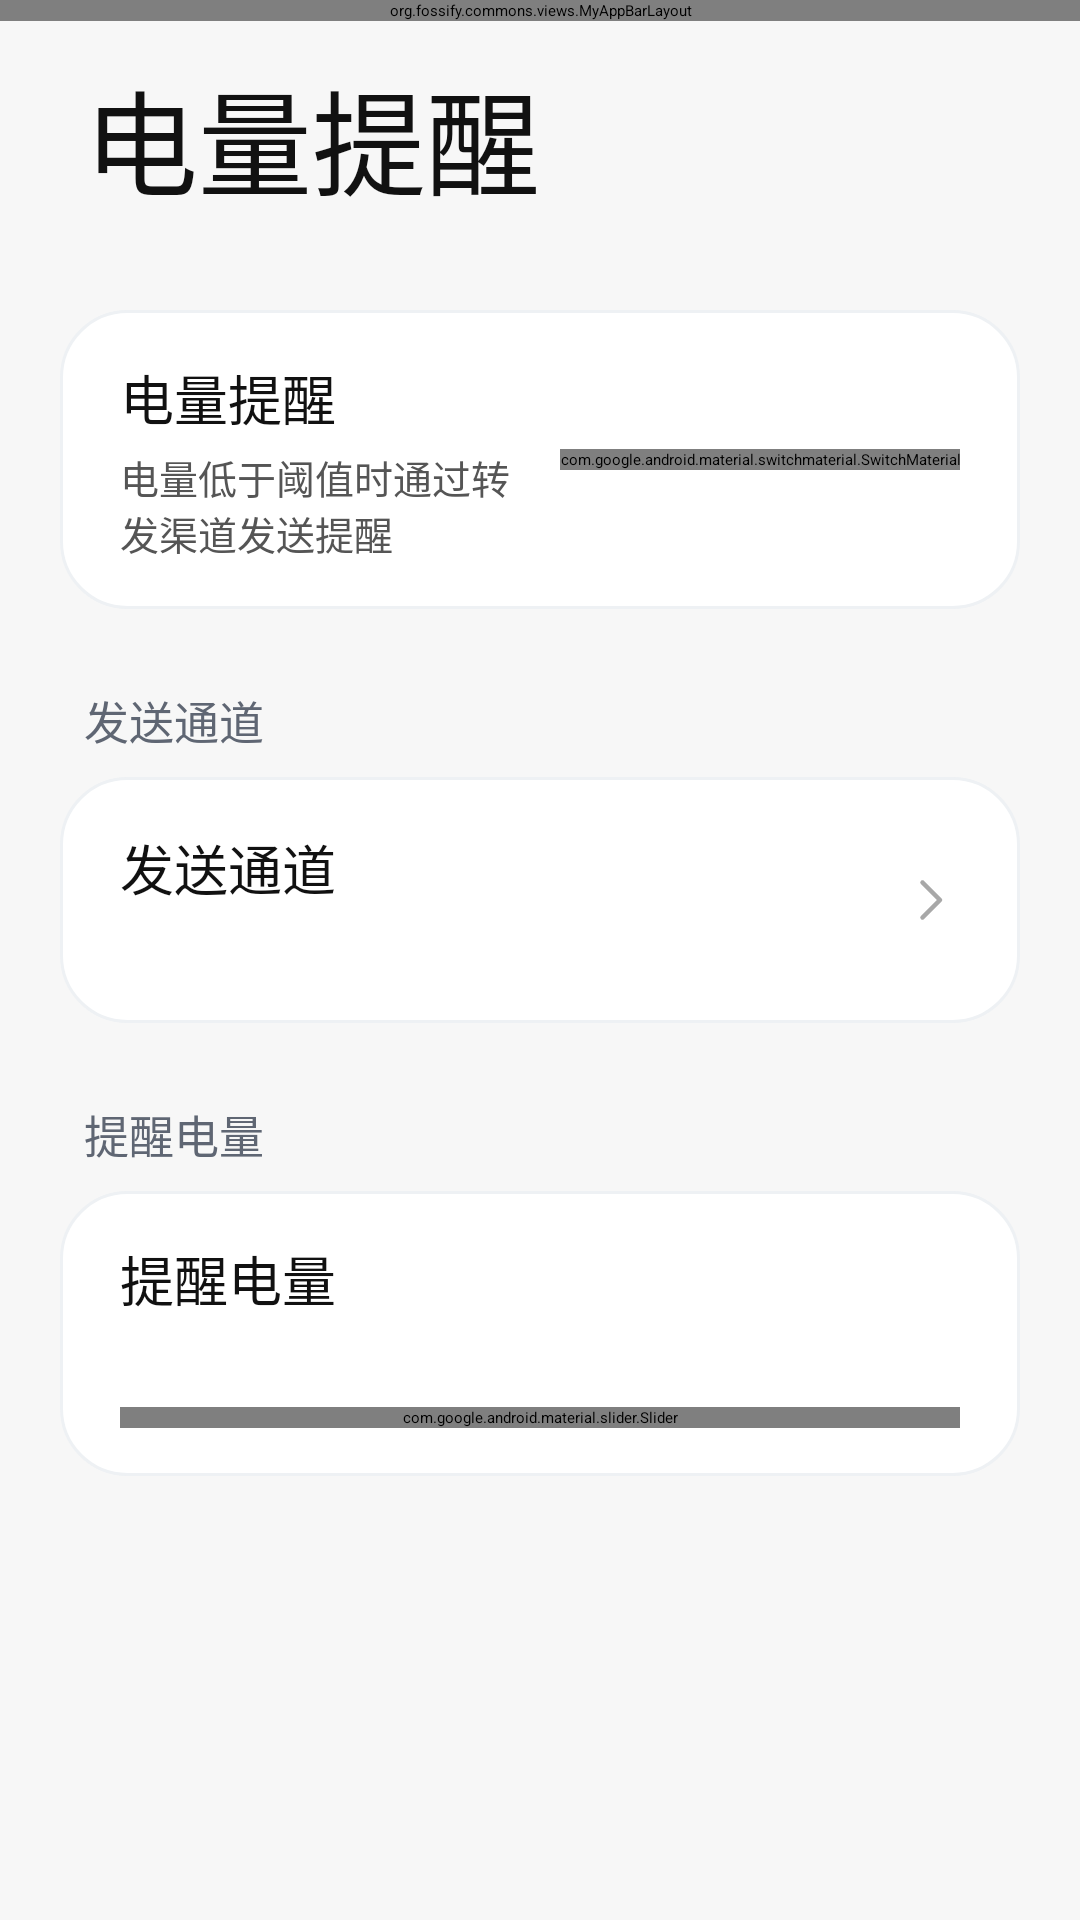

Point at icon controls on the screen. Image size 1080w x 1920h, points as (x=x, y=y).
chevron right: (x=931, y=900)
